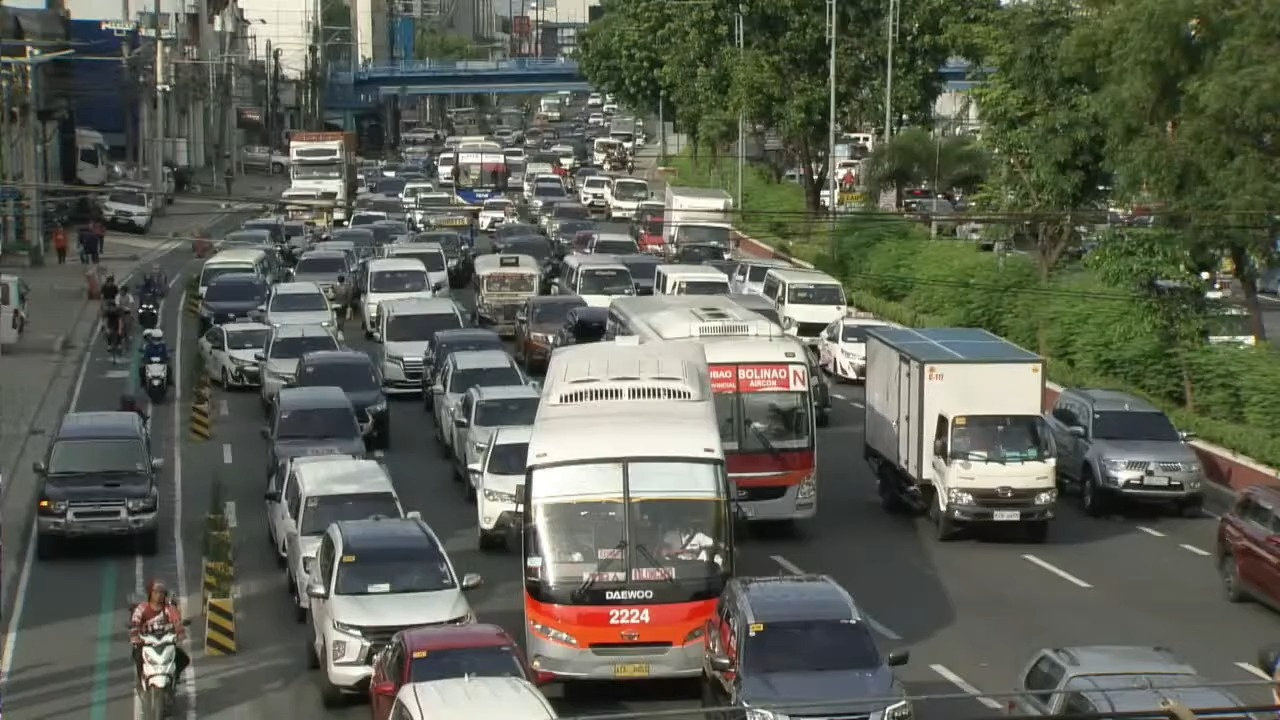bus: (517, 339, 733, 682), (606, 295, 817, 520), (454, 145, 508, 205)
car: (305, 518, 482, 706), (702, 575, 912, 719), (264, 456, 412, 622), (1045, 388, 1204, 516), (33, 412, 162, 559), (1009, 646, 1248, 716), (370, 623, 533, 719), (264, 454, 357, 566), (432, 350, 528, 457), (449, 384, 539, 497), (292, 349, 390, 448), (262, 386, 365, 475), (375, 298, 464, 393), (357, 243, 446, 338), (467, 426, 530, 549), (1216, 486, 1279, 608), (390, 677, 558, 719), (422, 328, 504, 414), (254, 325, 339, 407), (515, 295, 585, 371), (817, 314, 893, 381), (198, 322, 271, 388), (199, 273, 268, 331), (405, 230, 472, 287), (260, 282, 334, 327), (290, 251, 351, 299), (552, 306, 607, 350), (102, 187, 153, 233), (730, 258, 789, 294), (548, 206, 597, 248), (617, 254, 662, 295), (542, 201, 591, 236), (528, 184, 570, 222), (493, 236, 551, 262), (587, 230, 639, 255), (477, 198, 515, 231), (669, 242, 724, 264), (578, 175, 611, 210), (241, 217, 284, 243), (493, 222, 539, 242), (570, 165, 602, 189), (348, 210, 386, 227), (587, 112, 605, 127), (586, 93, 603, 107), (602, 102, 618, 115)
motorcycle: (137, 625, 177, 719), (143, 357, 168, 403), (137, 300, 159, 329)
truck: (864, 326, 1057, 541), (290, 131, 356, 225), (663, 185, 733, 258), (609, 117, 636, 154)
